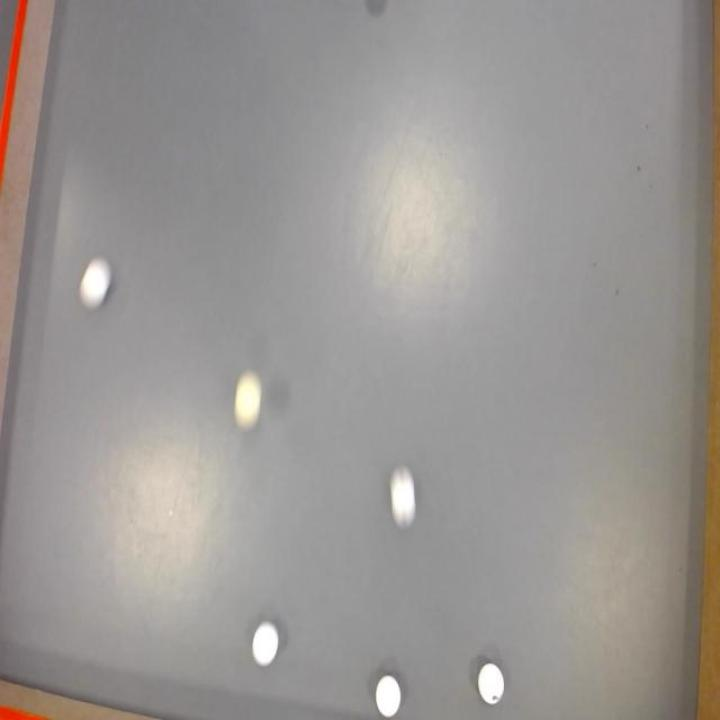white: (79, 256, 112, 310), (234, 370, 262, 432), (390, 466, 416, 526), (478, 662, 504, 705), (376, 674, 401, 718), (253, 623, 278, 666)
